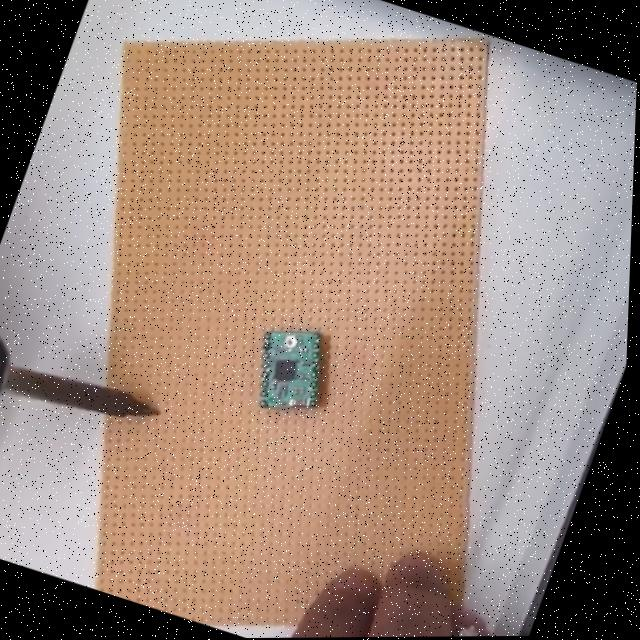Chip: (237, 317, 340, 427)
soldering_iron: (0, 321, 177, 468)
